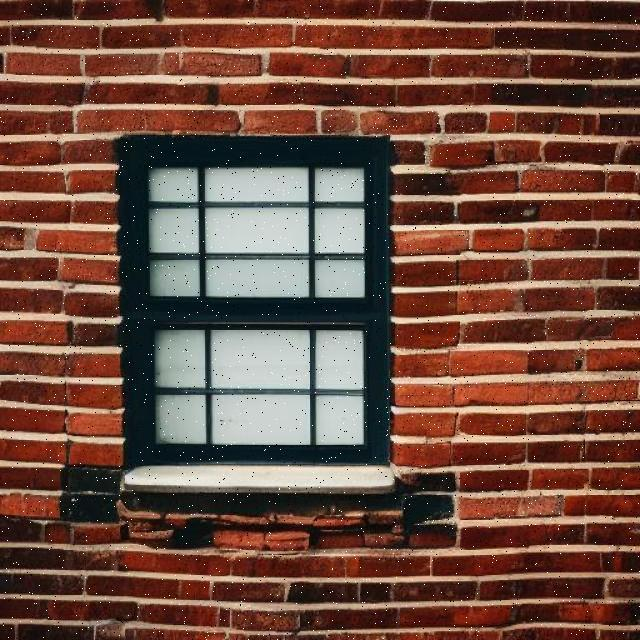window: (117, 132, 390, 465)
